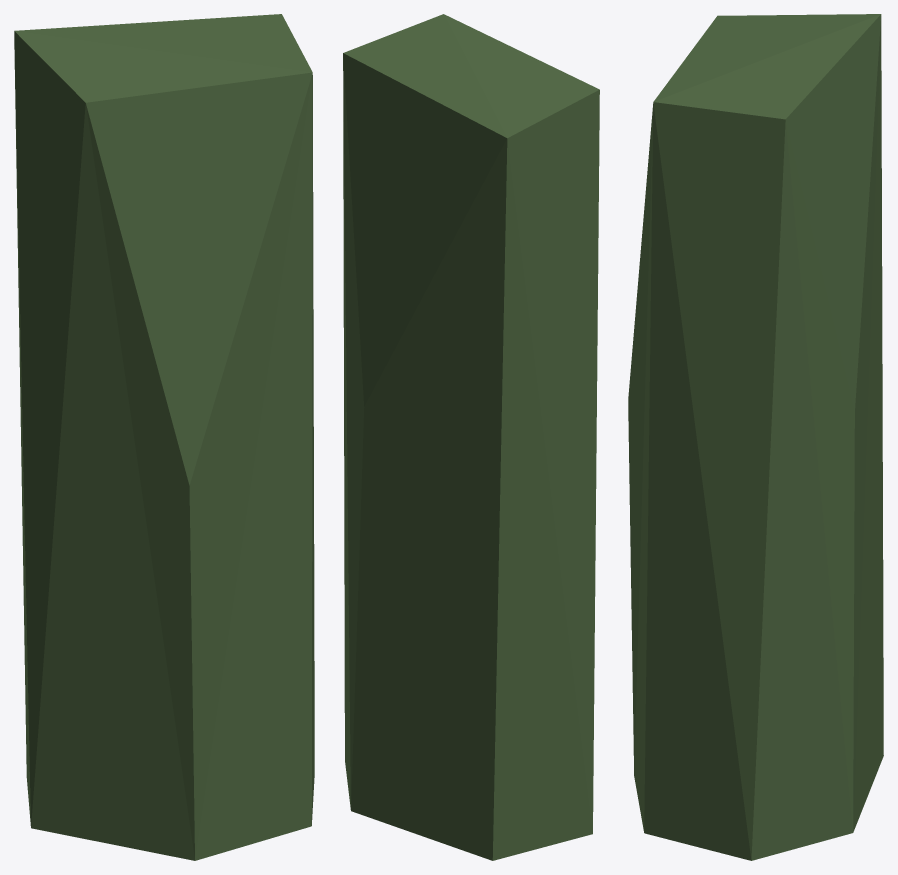
Rendered from Grass.lod4.glb.
The picture shows the model from 3 angles, left to right: view 1: azimuth 30°, elevation 25°; view 2: azimuth 150°, elevation 25°; view 3: azimuth 270°, elevation 25°; orthographic projection. The views are drawn at different scales.
Parts seen in each view (by area): view 1: Grass; view 2: Grass; view 3: Grass.
Part boxes in pixels (x1,y1,x2,y2): Grass: (14,14,314,860); Grass: (343,14,599,860); Grass: (628,14,883,860).
Size of the model in its own units: 0.3808 by 1.01 by 0.3185.
